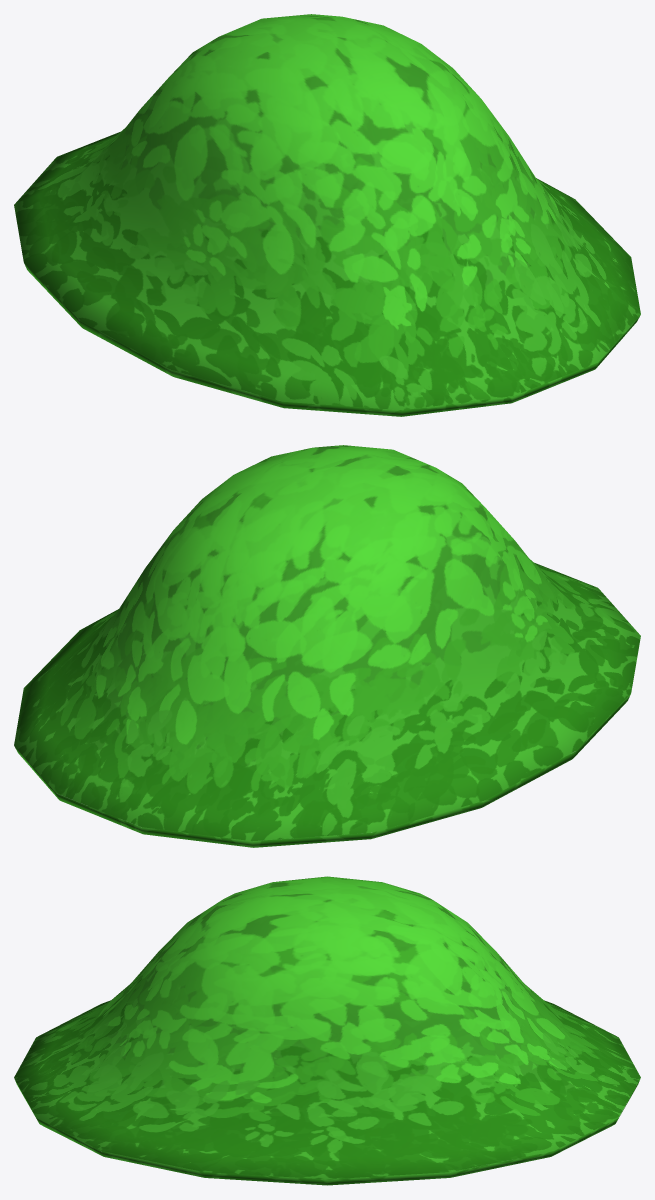
Rendered from piles-of-leaves.fbx.
3 views of the same model, one above another, from view 1: azimuth 30°, elevation 25°; view 2: azimuth 150°, elevation 25°; view 3: azimuth 270°, elevation 25° (orthographic). The views are drawn at different scales.
Parts seen in each view (by area): view 1: Cube; view 2: Cube; view 3: Cube.
Part boxes in pixels (x1,y1,x2,y2): Cube: (14, 14, 640, 416); Cube: (14, 445, 640, 847); Cube: (14, 876, 640, 1185).
Size of the model in its own units: 558 by 253 by 727.
Materials: 1 (1 with a texture image).
